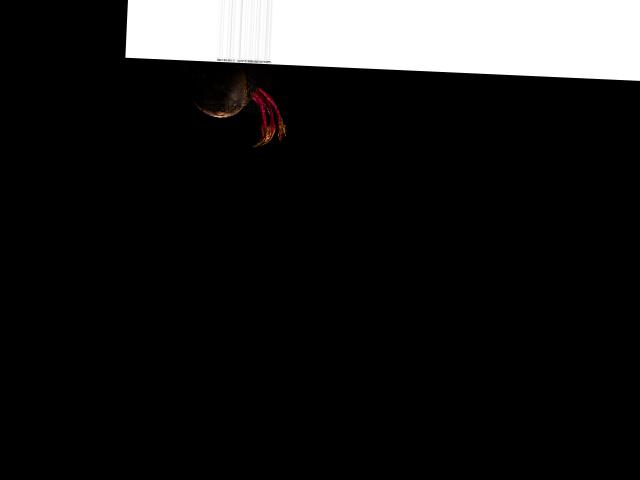beet: (172, 60, 288, 148)
